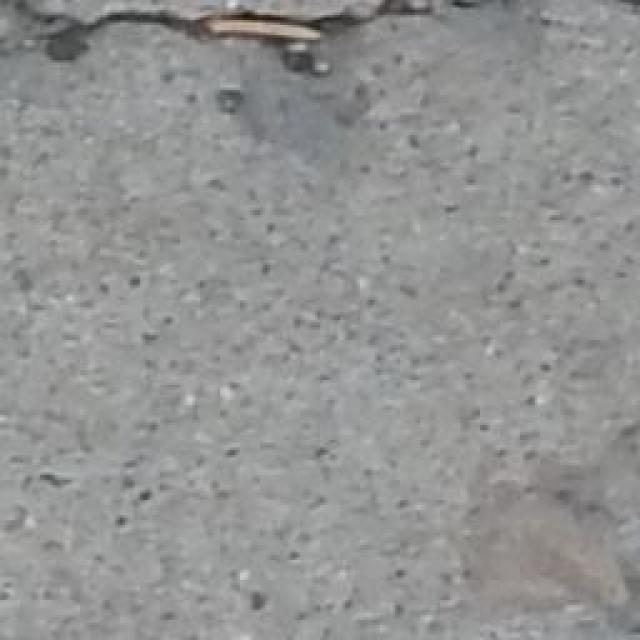concrete-crack: (1, 2, 510, 85)
